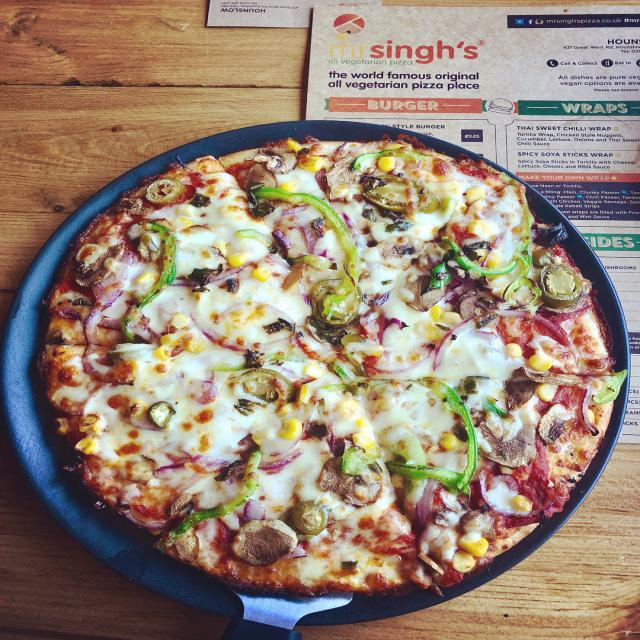mushrooms: (230, 515, 298, 572), (471, 414, 545, 466), (319, 450, 382, 507), (502, 366, 578, 407), (75, 238, 129, 289), (312, 156, 368, 200), (449, 284, 504, 322), (256, 150, 300, 178)
peppers: (253, 182, 367, 323), (381, 375, 482, 497), (166, 444, 273, 544), (132, 219, 193, 341)
pizza: (21, 121, 626, 608)
